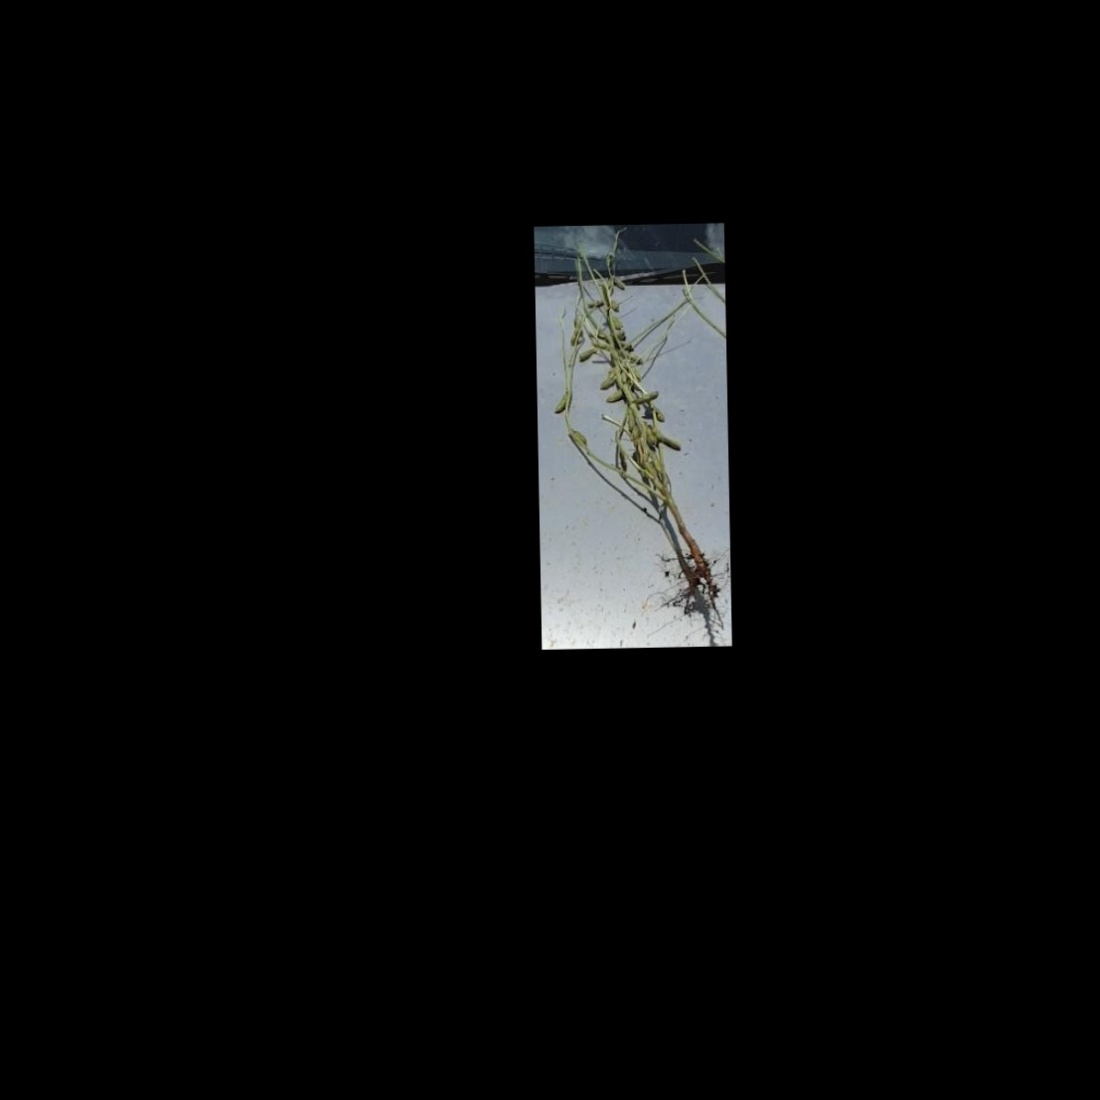pod: (632, 390, 663, 408), (656, 430, 683, 450), (550, 390, 568, 416), (576, 348, 600, 363), (603, 387, 624, 404), (583, 297, 605, 310)
soy: (546, 231, 722, 620)
